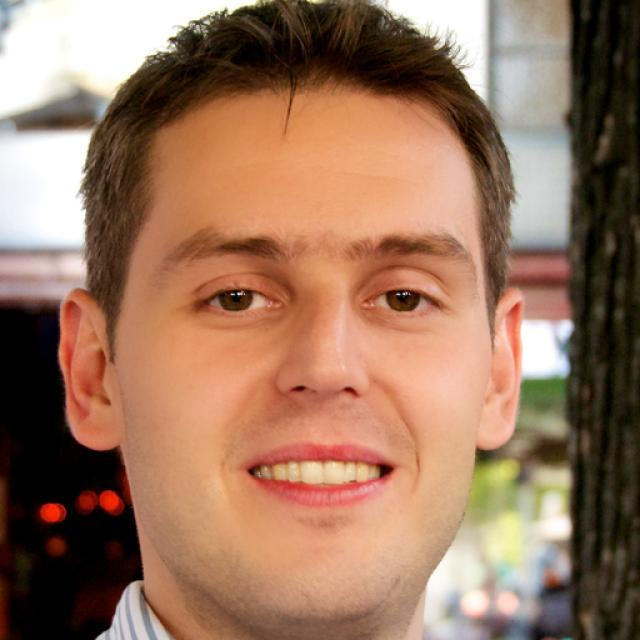happy: (122, 79, 488, 632)
